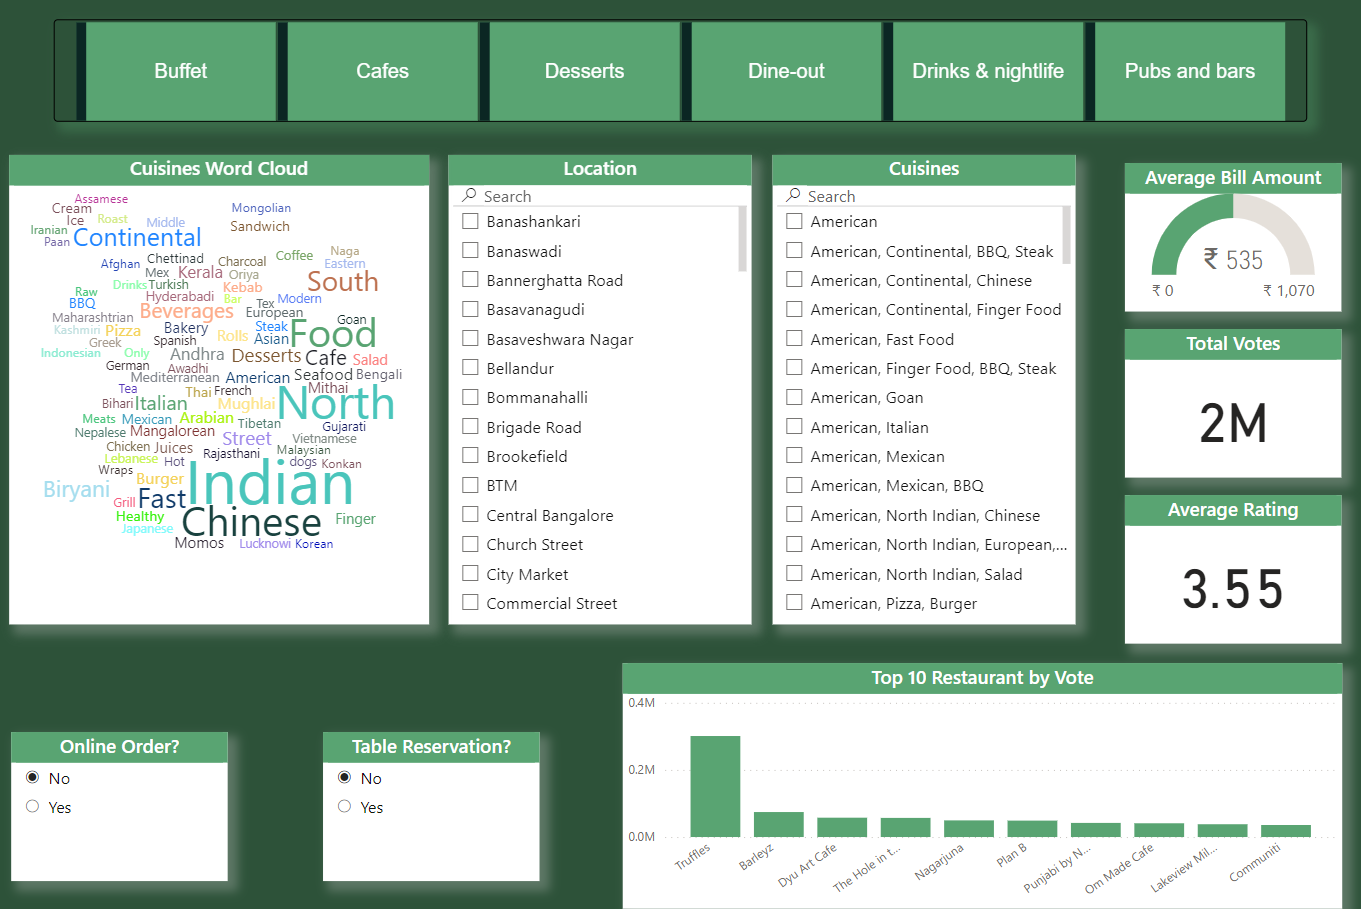

Layout of this report page (visuals, bound fields, positions):
{"tool":"powerbi","page":{"name":"Report","canvas":[1350,900],"ordinal":0},"visuals":[{"type":"gauge","title":"Average Bill Amount","fields":{"Y":["Avg(zomato.approx_cost(for two people))"]},"box":[1113.3,163.7,213.9,146.7],"z":2000},{"type":"card","title":"Total Votes","fields":{"Values":["Sum(zomato.votes)"]},"box":[1113.9,328.7,213.9,146.7],"z":3000},{"type":"card","title":"Average Rating","fields":{"Values":["Avg(zomato.rate)"]},"box":[1114.6,491.2,213.9,146.7],"z":4000},{"type":"columnChart","title":"Top 10 Restaurant by Vote","fields":{"Category":["zomato.name"],"Y":["Sum(zomato.votes)"]},"box":[617.2,657.3,710.8,242.7],"z":5000},{"type":"slicer","title":"Table Reservation?","fields":{"Values":["zomato.book_table"]},"box":[321,726.1,214,147],"z":6000},{"type":"slicer","title":"Online Order?","fields":{"Values":["zomato.online_order"]},"box":[13.4,726.1,214,147.1],"z":7000},{"type":"slicer","title":"Cuisines","fields":{"Values":["zomato.cuisines"]},"box":[765.3,156.1,299.3,463.9],"z":8000},{"type":"slicer","title":"Location","fields":{"Values":["zomato.location"]},"box":[446.8,156.1,299.3,463.9],"z":9000},{"type":"WordCloud1447959067750","title":"Cuisines Word Cloud","fields":{"Category":["zomato.cuisines"]},"box":[12.8,156.1,414.7,463.9],"z":10000},{"type":"slicer","title":"Restaurant Type","fields":{"Values":["zomato.listed_in(type)"]},"box":[55.9,21,1238.2,101.3],"z":10500}]}

Visuals, with their boxes in screenshot pixels (x1, y1, x2, y2), scaled from the page's 1350x900 canvas onto the 1361x909 screenshot:
"Average Bill Amount" gauge: bbox=[1122, 165, 1338, 314]
"Total Votes" card: bbox=[1123, 332, 1339, 480]
"Average Rating" card: bbox=[1124, 496, 1339, 644]
"Top 10 Restaurant by Vote" columnChart: bbox=[622, 664, 1339, 908]
"Table Reservation?" slicer: bbox=[324, 733, 539, 882]
"Online Order?" slicer: bbox=[14, 733, 229, 882]
"Cuisines" slicer: bbox=[772, 158, 1073, 626]
"Location" slicer: bbox=[450, 158, 752, 626]
"Cuisines Word Cloud" WordCloud1447959067750: bbox=[13, 158, 431, 626]
"Restaurant Type" slicer: bbox=[56, 21, 1305, 124]
